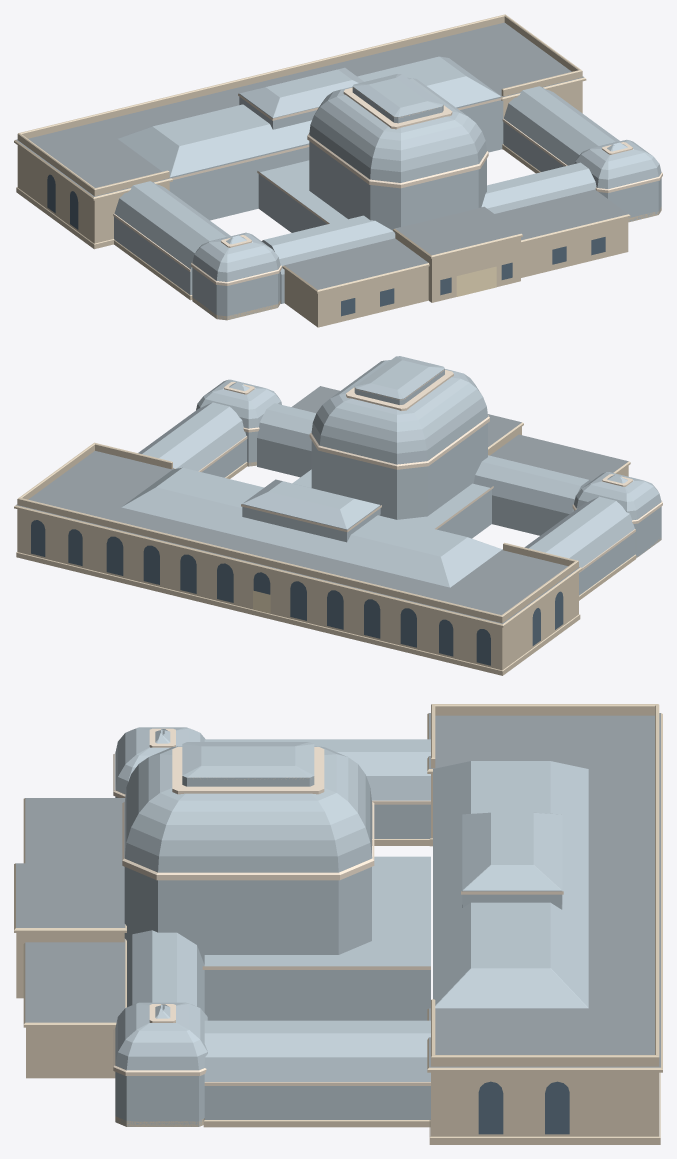
The model's file is dc-botanic-garden.glb.
3 views of the same model, one above another, from view 1: azimuth 30°, elevation 25°; view 2: azimuth 150°, elevation 25°; view 3: azimuth 270°, elevation 25° (orthographic). The views are drawn at different scales.
Visible parts, largest first — view 1: United States Botanic Garden Conservatory; view 2: United States Botanic Garden Conservatory; view 3: United States Botanic Garden Conservatory.
Boxes of the visible parts, x1,y1,x2,y2 form: United States Botanic Garden Conservatory: (14,14,662,327); United States Botanic Garden Conservatory: (14,356,662,675); United States Botanic Garden Conservatory: (14,704,662,1144).
Bounding box in the file's own units: 88.6 × 24.4 × 68.25.
